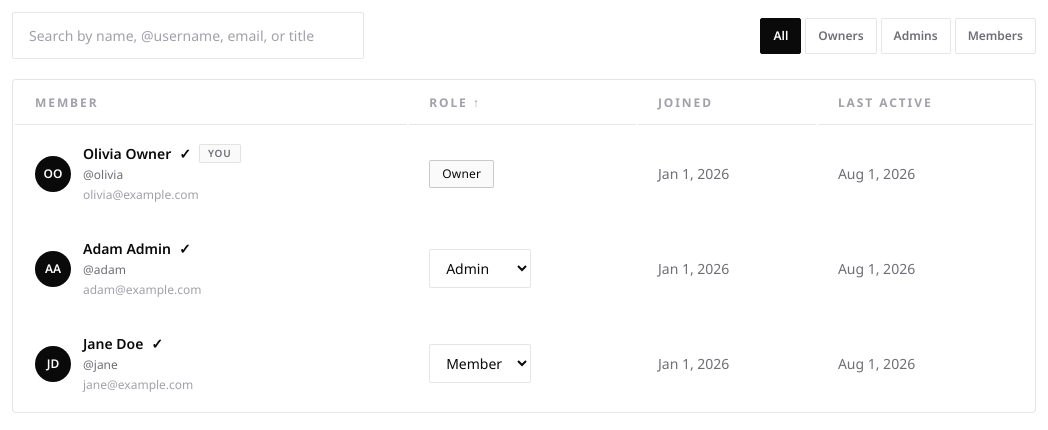
TeamRoster › filters rows by the search term
The image size is (1048, 430).
Check: the text "Jane Doe" is shown, box [83, 334, 143, 353]
Check: the text "Adam Admin" is shown, box [83, 239, 171, 258]
Type "jane" into the search field named "Search members" at (188, 36), box [12, 12, 364, 59]
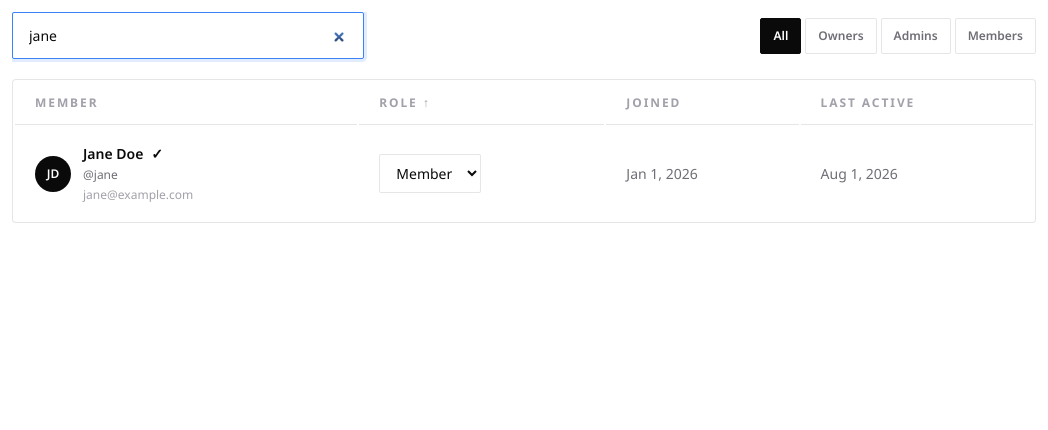
Check: the text "Jane Doe" is shown, box [83, 144, 143, 163]
Check: the button "Adam Admin" is gone
